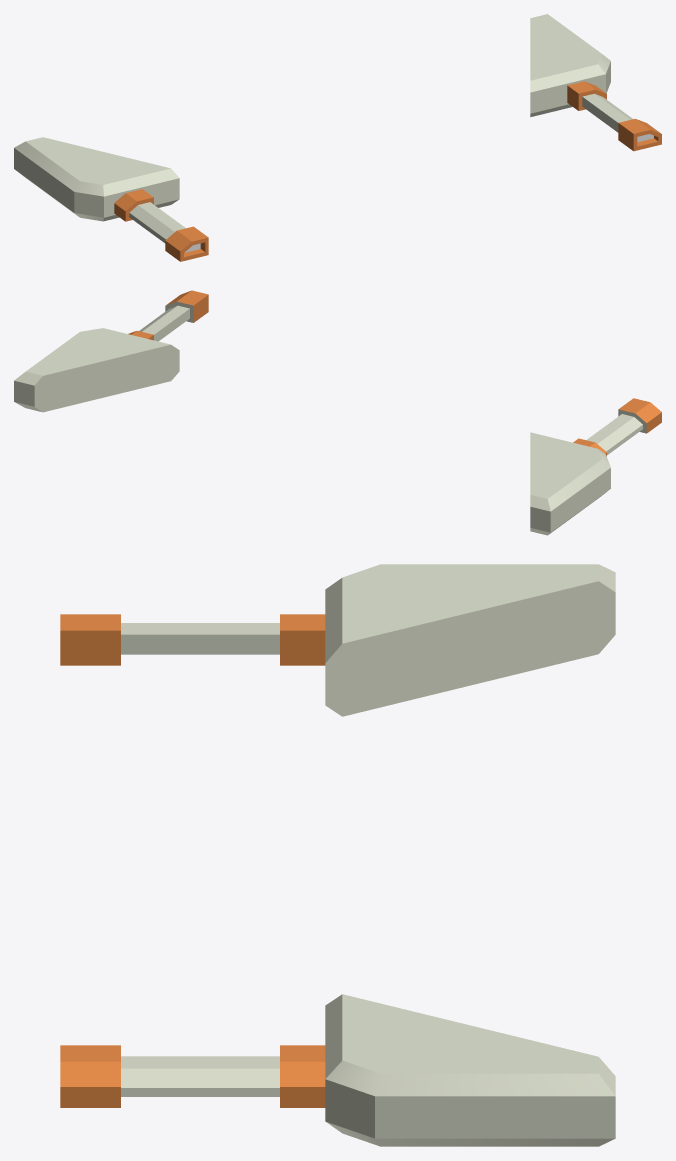
File: blaster2.fbx
The picture shows the model from 3 angles, top to bottom: view 1: azimuth 30°, elevation 25°; view 2: azimuth 150°, elevation 25°; view 3: azimuth 270°, elevation 25°; orthographic projection. The views are drawn at different scales.
Visible parts, largest first — view 1: blaster_2; view 2: blaster_2; view 3: blaster_2.
Boxes of the visible parts, x1,y1,x2,y2 form: blaster_2: (14,14,661,261); blaster_2: (14,290,661,535); blaster_2: (60,564,615,1146).
Bounding box in the file's own units: 0.7416 × 0.0482 × 0.3323.
